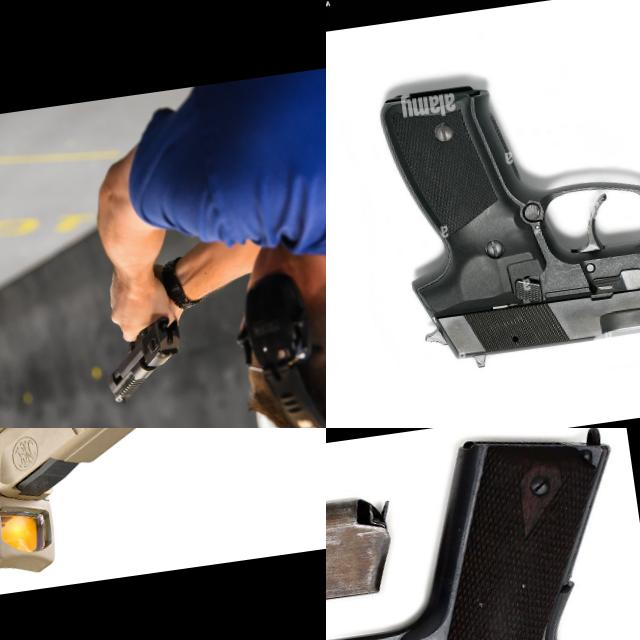handgun: (370, 38, 640, 380), (326, 428, 640, 640), (0, 428, 247, 620), (95, 311, 191, 408)
